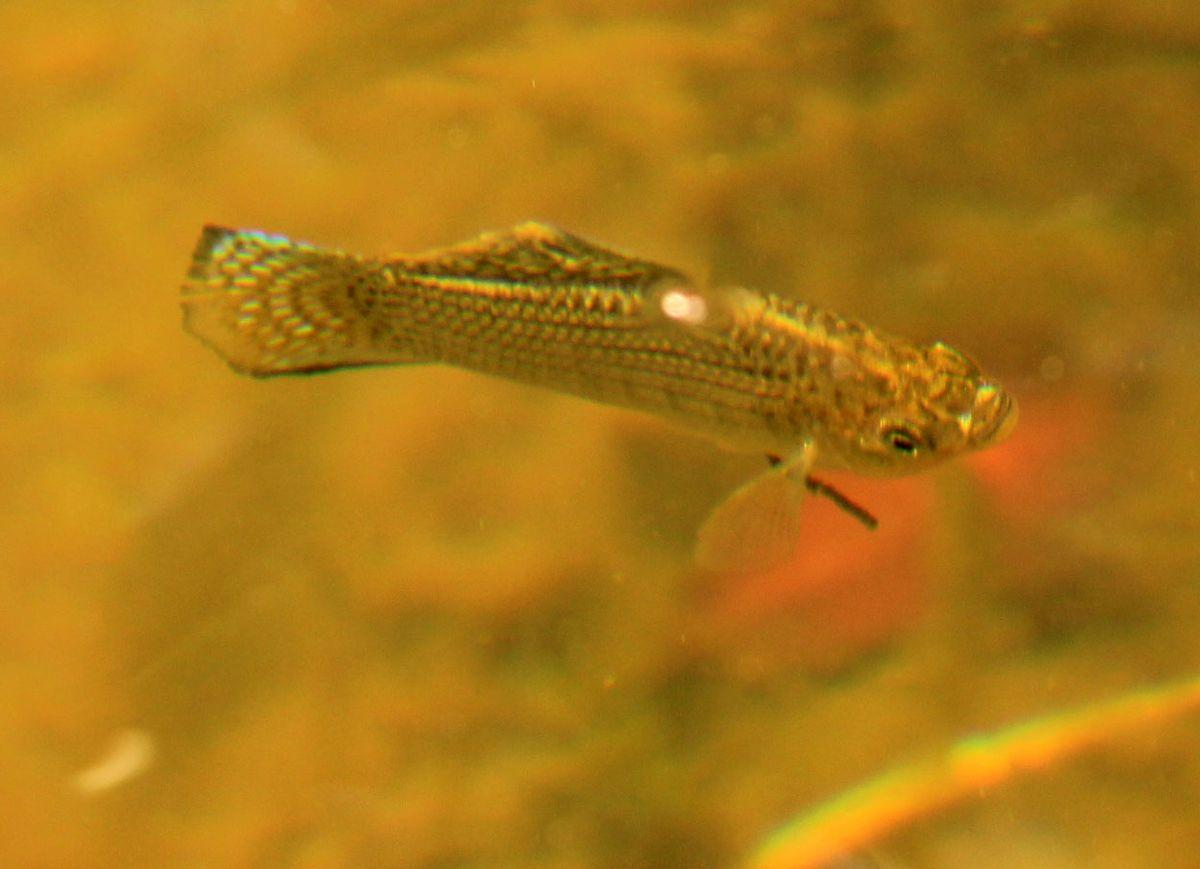Mosquito Fish: (188, 192, 1018, 565)
